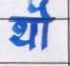au_matra: (33, 0, 55, 49)
